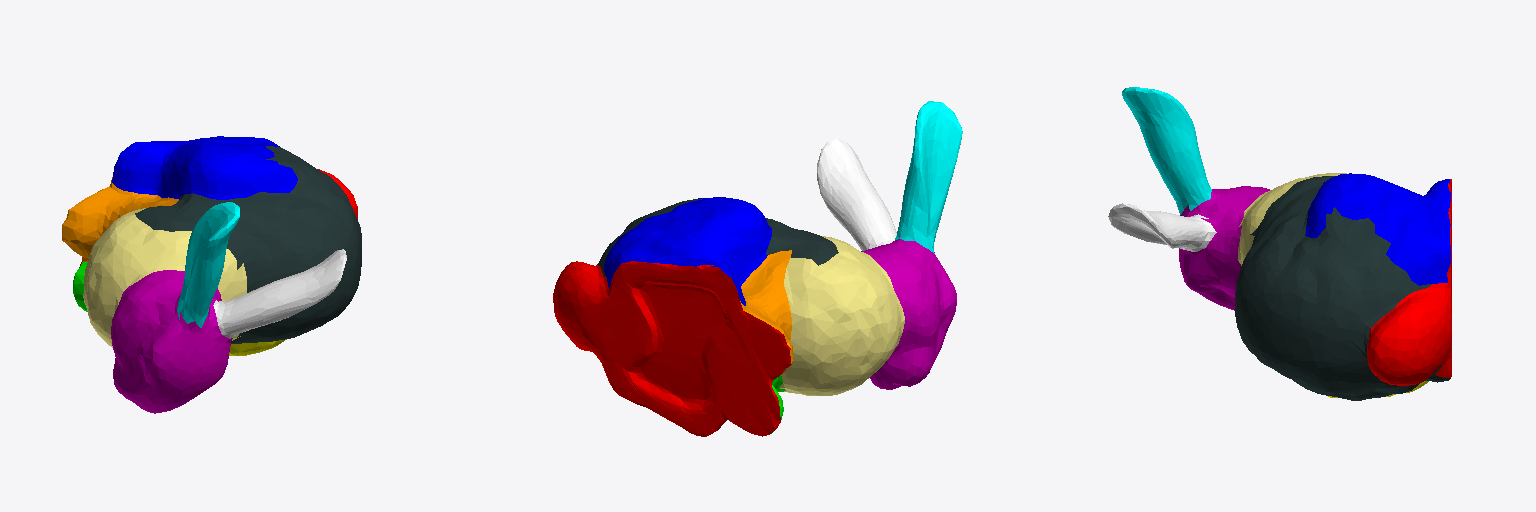
The picture shows the model from 3 angles: view 1: azimuth 30°, elevation 25°; view 2: azimuth 150°, elevation 25°; view 3: azimuth 270°, elevation 25°; orthographic projection.
Visible parts, largest first — view 1: cluster8, cluster4, cluster2, cluster9, cluster7, cluster5, cluster6; view 2: cluster0, cluster9, cluster2, cluster4, cluster5, cluster7, cluster6, cluster8; view 3: cluster8, cluster2, cluster0, cluster5, cluster4, cluster7, cluster9.
Boxes of the visible parts, x1=… form: cluster8: x1=135, y1=146, x2=361, y2=343; cluster4: x1=111, y1=270, x2=232, y2=413; cluster2: x1=112, y1=136, x2=297, y2=199; cluster9: x1=83, y1=208, x2=246, y2=347; cluster7: x1=213, y1=249, x2=346, y2=338; cluster5: x1=177, y1=202, x2=239, y2=327; cluster6: x1=62, y1=177, x2=178, y2=261; cluster0: x1=553, y1=261, x2=791, y2=436; cluster9: x1=779, y1=236, x2=904, y2=395; cluster2: x1=604, y1=197, x2=771, y2=305; cluster4: x1=861, y1=239, x2=956, y2=389; cluster5: x1=895, y1=101, x2=962, y2=253; cluster7: x1=817, y1=138, x2=896, y2=250; cluster6: x1=740, y1=250, x2=793, y2=375; cluster8: x1=597, y1=199, x2=838, y2=277; cluster8: x1=1235, y1=176, x2=1450, y2=400; cluster2: x1=1305, y1=173, x2=1450, y2=285; cluster0: x1=1367, y1=179, x2=1451, y2=385; cluster5: x1=1122, y1=87, x2=1211, y2=214; cluster4: x1=1179, y1=186, x2=1269, y2=310; cluster7: x1=1108, y1=203, x2=1216, y2=251; cluster9: x1=1238, y1=173, x2=1346, y2=265.
Bounding box in the file's own units: 86.15 × 66.68 × 83.77.